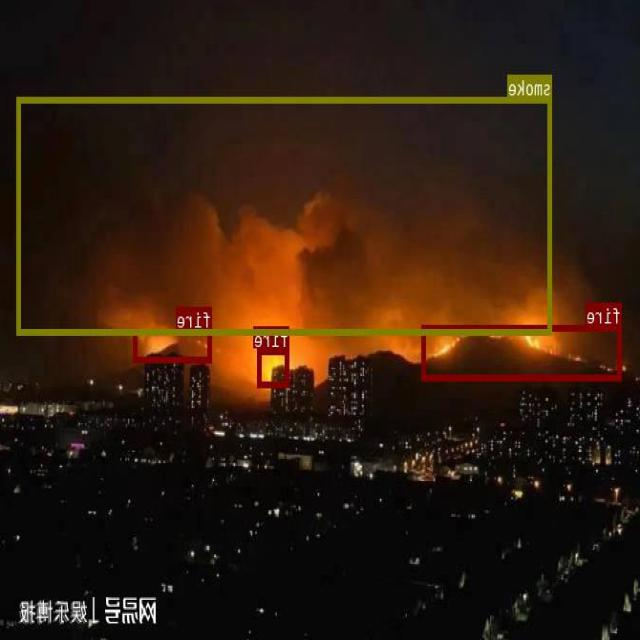fire: (423, 324, 622, 380), (134, 329, 212, 361), (258, 348, 290, 387)
smoke: (18, 97, 552, 334)
